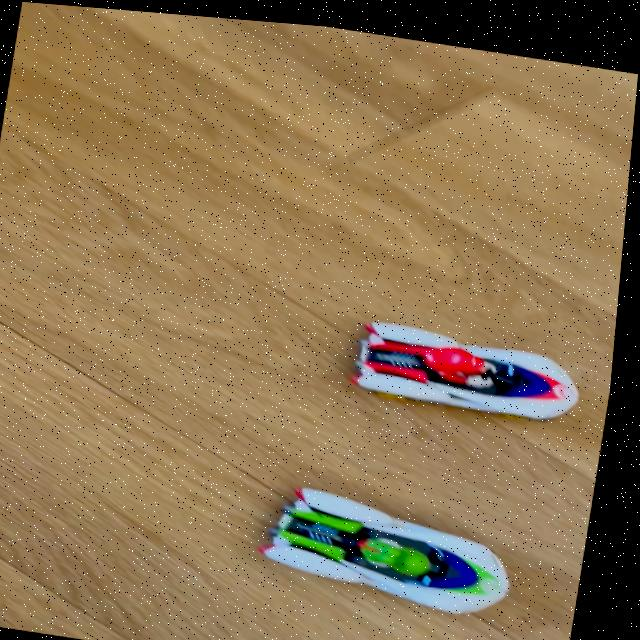mario: (336, 300, 614, 426)
yoshi: (256, 473, 552, 623)
